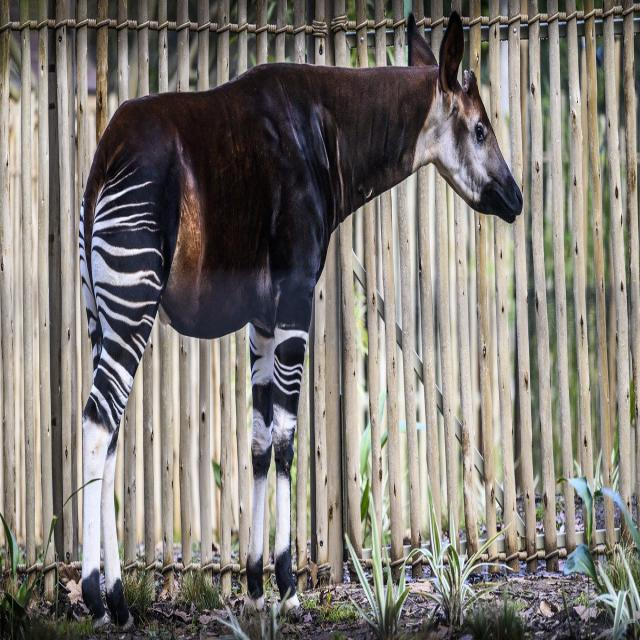Okapi: (66, 9, 524, 626)
